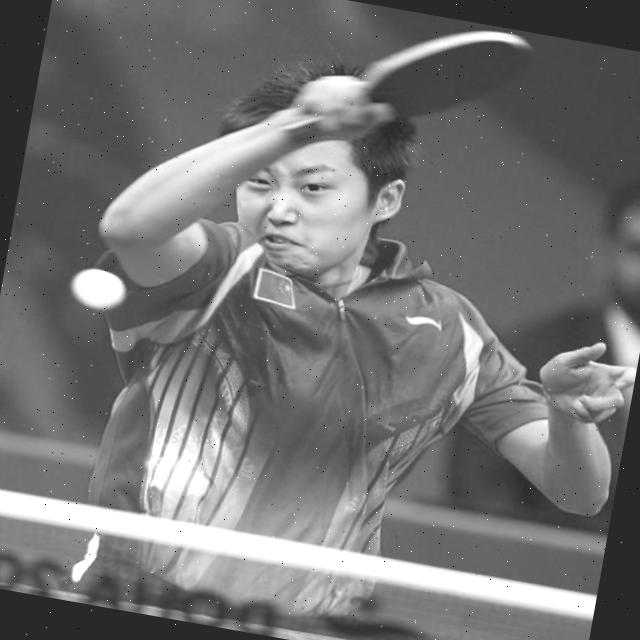ping-pong-ball: (66, 264, 128, 314)
